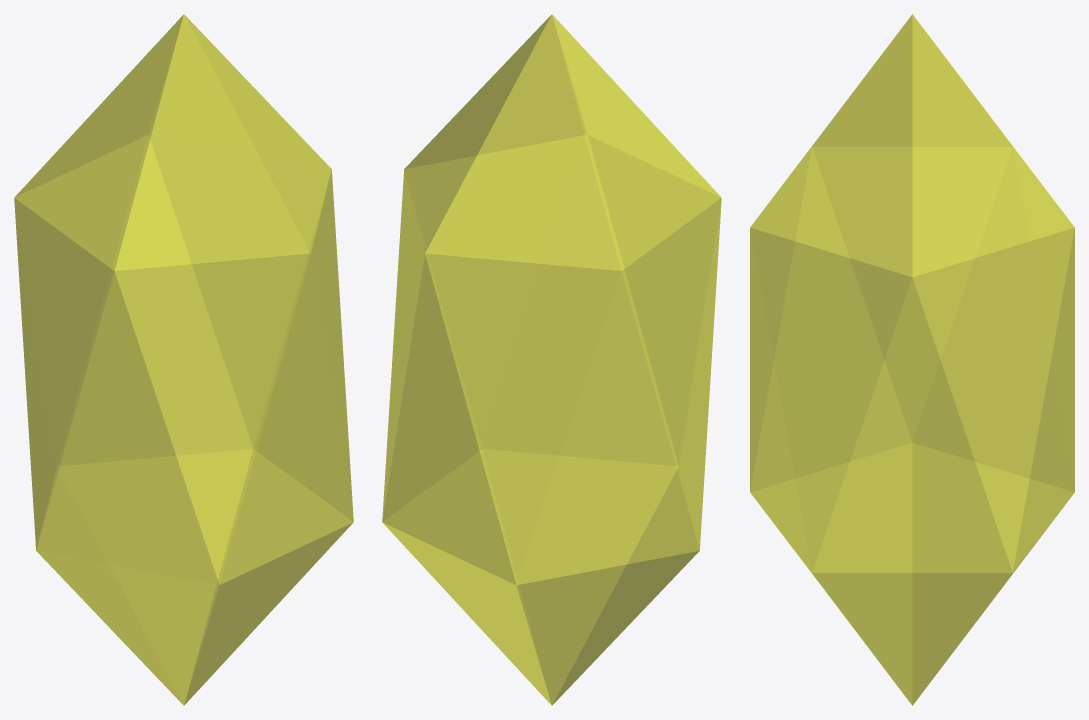
Rendered from crystal2.gltf.
3 renders of one model, left to right at view 1: azimuth 30°, elevation 25°; view 2: azimuth 150°, elevation 25°; view 3: azimuth 270°, elevation 25°, orthographic.
Visible parts, largest first — view 1: Icosphere.001; view 2: Icosphere.001; view 3: Icosphere.001.
Boxes of the visible parts, <box> form: Icosphere.001: <box>14,14,353,705</box>; Icosphere.001: <box>382,14,721,705</box>; Icosphere.001: <box>750,14,1074,705</box>.
Size of the model in its own units: 1.79 by 4 by 1.7.
